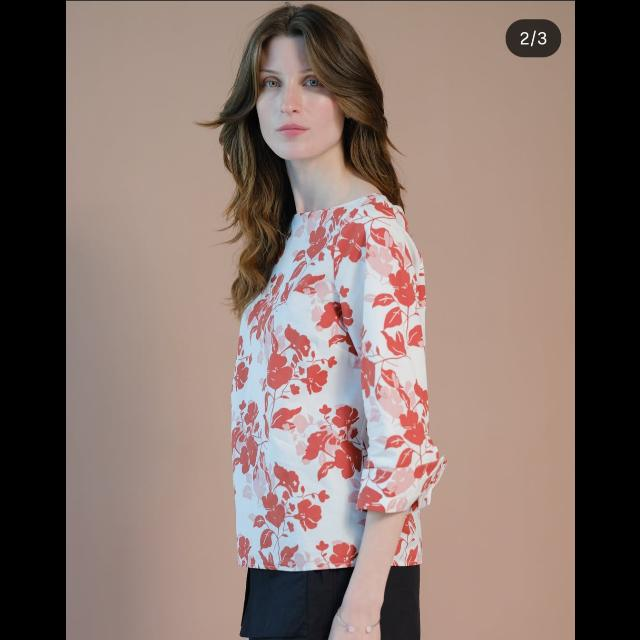bottom: (245, 570, 417, 640)
top: (235, 207, 423, 568)
